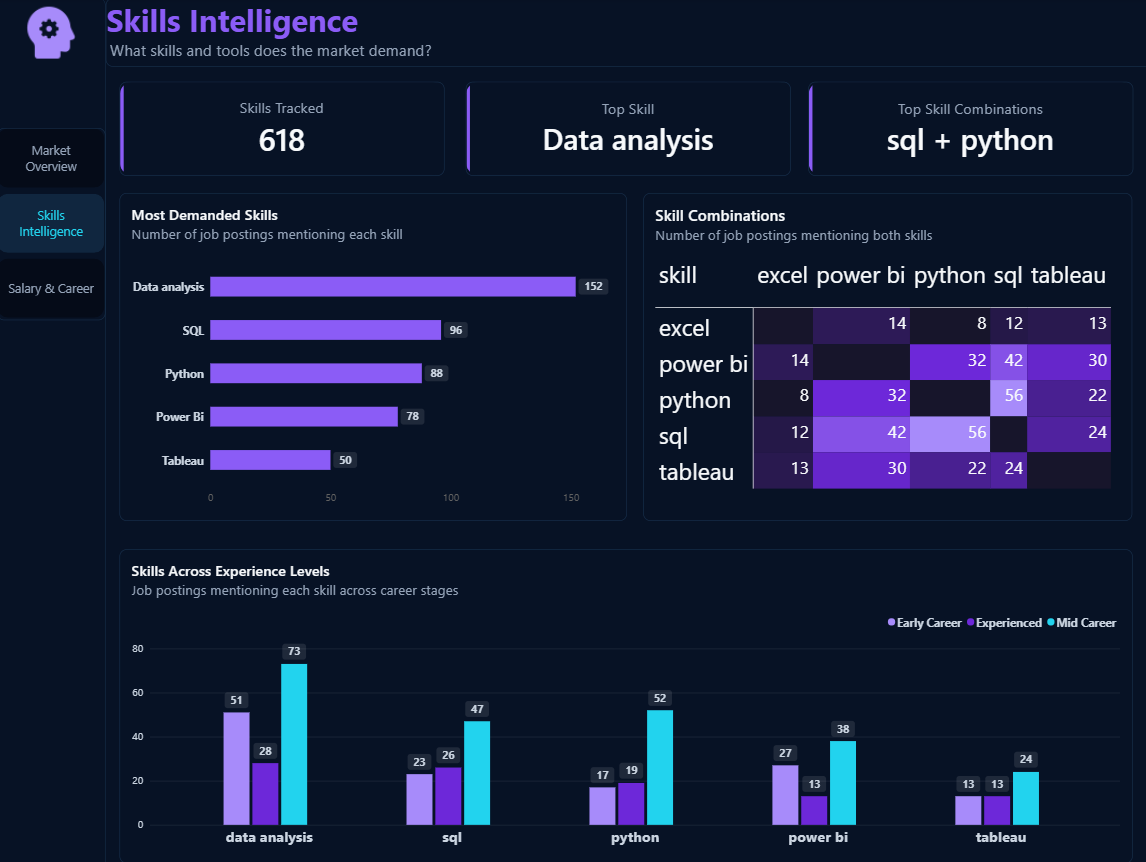

This screenshot's page, from the dashboard's own definition file:
{"tool":"powerbi","page":{"name":"Skills Intelligence","canvas":[1600,1200],"ordinal":1},"visuals":[{"type":"shape","box":[0,0,150.5,1250.1],"z":0},{"type":"pageNavigator","box":[0,180.3,150.5,266.7],"z":1000},{"type":"textbox","box":[150.5,0,1449.8,95.4],"z":2000},{"type":"barChart","title":"Most Demanded Skills","fields":{"Category":["job_market_tracker job_skills.skill"],"Y":["job_market_tracker job_skills.Job_count"]},"box":[149.5,270.2,724.1,464.3],"z":3000},{"type":"pivotTable","title":"Skill Combinations","fields":{"Values":["Sum(Query1.job_count)"],"Rows":["Query1.skill_1"],"Columns":["Query1.skill_2"]},"box":[895.9,270.2,704.4,464.3],"z":4000},{"type":"clusteredColumnChart","title":"Skills Across Experience Levels","fields":{"Series":["Query1.experience_level"],"Y":["Sum(Query1.job_count)"],"Category":["Query1.skill"]},"box":[149,764.4,1449.8,435.1],"z":5000},{"type":"cardVisual","fields":{"Data":["job_market_tracker job_skills.Skills Tracked"]},"box":[169.7,116.1,450,130],"z":6000},{"type":"cardVisual","fields":{"Data":["job_market_tracker job_skills.Top Skill"]},"box":[649.5,116.1,450,130],"z":7000},{"type":"cardVisual","fields":{"Data":["skill combinations.Top Skill Combinations"]},"box":[1124.1,116.1,450,130],"z":8000},{"type":"image","box":[0,0,149.5,95.8],"z":9000}]}

Visuals, with their boxes in screenshot pixels (x1, y1, x2, y2), scaled from the page's 1600x1200 canvas onto the 1146x862 screenshot:
shape: (x1=0, y1=0, x2=108, y2=861)
pageNavigator: (x1=0, y1=130, x2=108, y2=321)
textbox: (x1=108, y1=0, x2=1145, y2=69)
"Most Demanded Skills" barChart: (x1=107, y1=194, x2=626, y2=528)
"Skill Combinations" pivotTable: (x1=642, y1=194, x2=1145, y2=528)
"Skills Across Experience Levels" clusteredColumnChart: (x1=107, y1=549, x2=1145, y2=861)
cardVisual - job_market_tracker job_skills.Skills Tracked: (x1=122, y1=83, x2=444, y2=177)
cardVisual - job_market_tracker job_skills.Top Skill: (x1=465, y1=83, x2=788, y2=177)
cardVisual - skill combinations.Top Skill Combinations: (x1=805, y1=83, x2=1127, y2=177)
image: (x1=0, y1=0, x2=107, y2=69)
